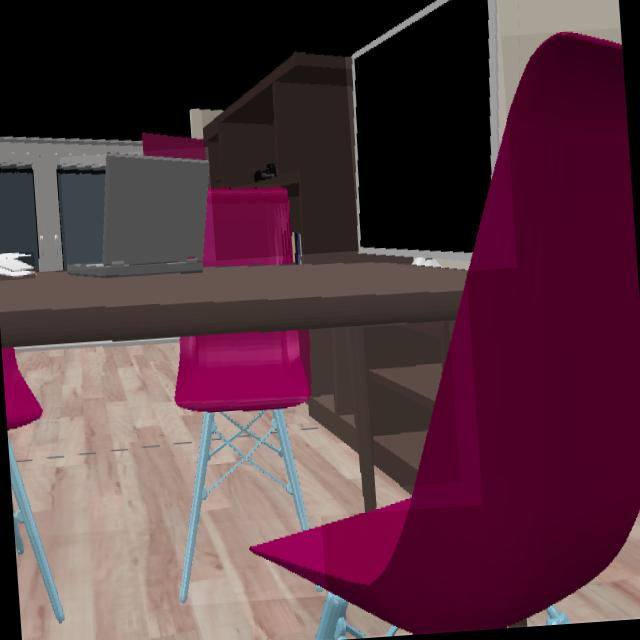book: (0, 254, 35, 279), (291, 232, 297, 264)
bookshelf: (202, 53, 359, 264), (364, 322, 450, 485), (309, 330, 357, 452)
chair: (249, 32, 640, 640), (174, 329, 311, 605), (2, 347, 63, 622), (203, 187, 292, 268)
laptop: (67, 153, 209, 278)
monitor: (352, 0, 499, 271)
table: (0, 262, 466, 512)
